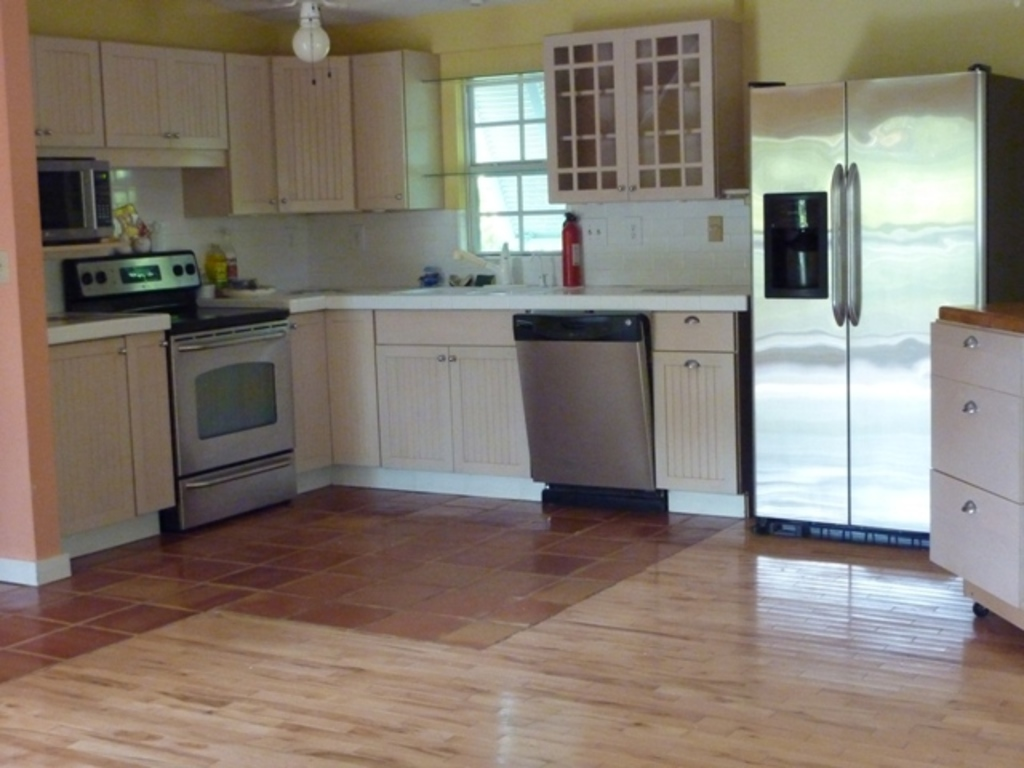cabinet door: (49, 339, 132, 525), (626, 26, 714, 196), (274, 54, 354, 212), (548, 36, 625, 190), (655, 352, 735, 486), (450, 350, 524, 480), (377, 345, 452, 471), (934, 477, 1024, 581), (126, 329, 174, 502), (353, 59, 402, 211), (231, 50, 274, 221), (935, 379, 1020, 465), (103, 41, 169, 150), (163, 48, 232, 145), (34, 44, 99, 146), (936, 327, 1024, 379), (654, 314, 733, 347)
handle: (187, 447, 285, 492), (841, 162, 862, 327), (822, 172, 845, 322), (175, 332, 290, 354), (958, 386, 982, 421), (680, 354, 706, 379), (961, 496, 983, 525), (678, 309, 702, 335), (959, 327, 982, 354)
refrigerator door: (747, 87, 846, 519), (849, 84, 930, 519)
